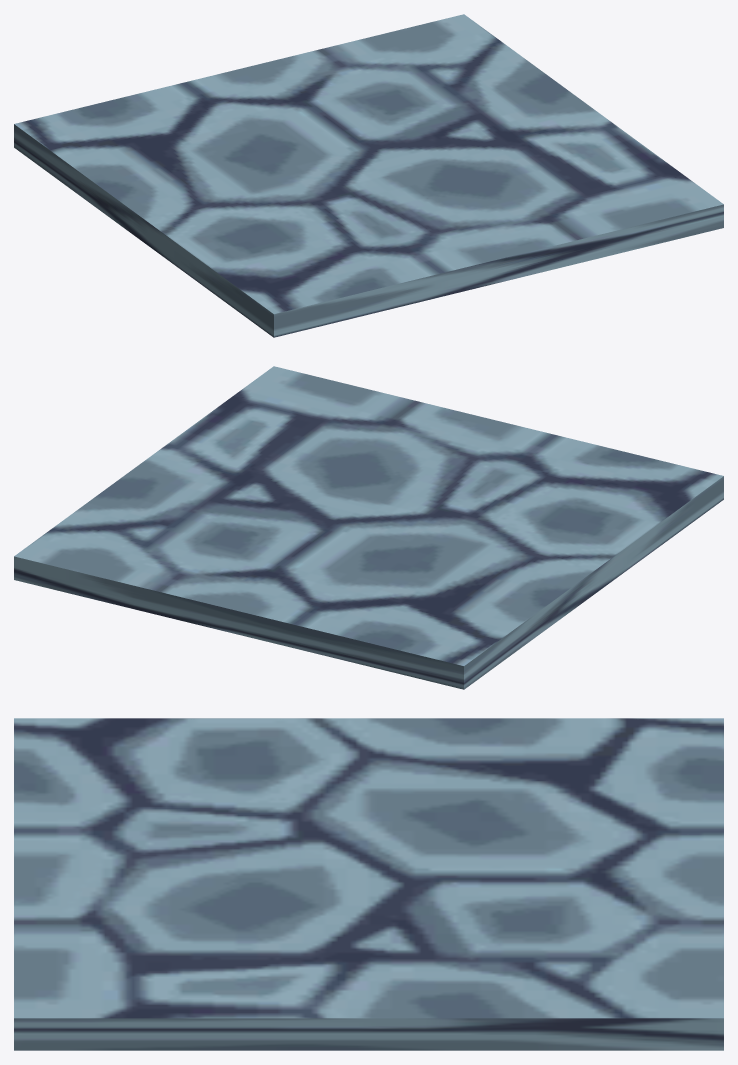
File: ground.gltf
3 views of the same model, one above another, from view 1: azimuth 30°, elevation 25°; view 2: azimuth 150°, elevation 25°; view 3: azimuth 270°, elevation 25° (orthographic). The views are drawn at different scales.
Visible parts, largest first — view 1: Cube; view 2: Cube; view 3: Cube.
Part boxes in pixels (box(x1,y1,x2,y2)): Cube: box(14, 14, 723, 337); Cube: box(14, 366, 723, 689); Cube: box(14, 718, 723, 1050).
Bounding box in the file's own units: 6 × 0.3 × 6.
